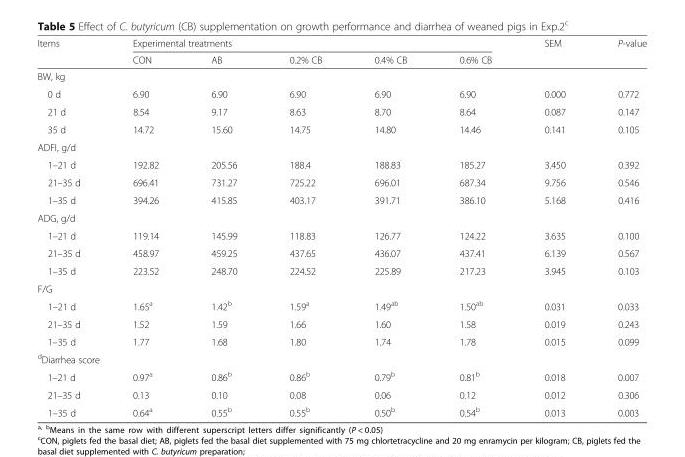table: (36, 37, 646, 417)
table column: (262, 37, 347, 417), (347, 37, 432, 417), (432, 37, 517, 417), (105, 37, 184, 417), (184, 37, 262, 417), (517, 37, 590, 417), (36, 37, 105, 417), (590, 37, 646, 417)
table column header: (36, 37, 646, 67)
table projected row header: (36, 137, 646, 155), (36, 208, 646, 226), (36, 349, 646, 367), (36, 67, 646, 84), (36, 279, 646, 296)
table row: (36, 84, 646, 102), (36, 102, 646, 120), (36, 137, 646, 155), (36, 155, 646, 173), (36, 173, 646, 191), (36, 208, 646, 226), (36, 226, 646, 244), (36, 261, 646, 279), (36, 296, 646, 314), (36, 314, 646, 332), (36, 349, 646, 367), (36, 367, 646, 385), (36, 67, 646, 84), (36, 120, 646, 137), (36, 191, 646, 208), (36, 244, 646, 261), (36, 279, 646, 296), (36, 332, 646, 349), (36, 385, 646, 402), (36, 51, 646, 67), (36, 402, 646, 417), (36, 37, 646, 51)
table spanning cell: (105, 37, 517, 51), (517, 37, 590, 67), (36, 37, 105, 67), (590, 37, 646, 67)
